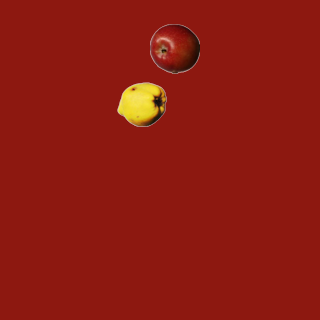Apple Braeburn: (149, 23, 199, 73)
Quince: (116, 79, 166, 129)
